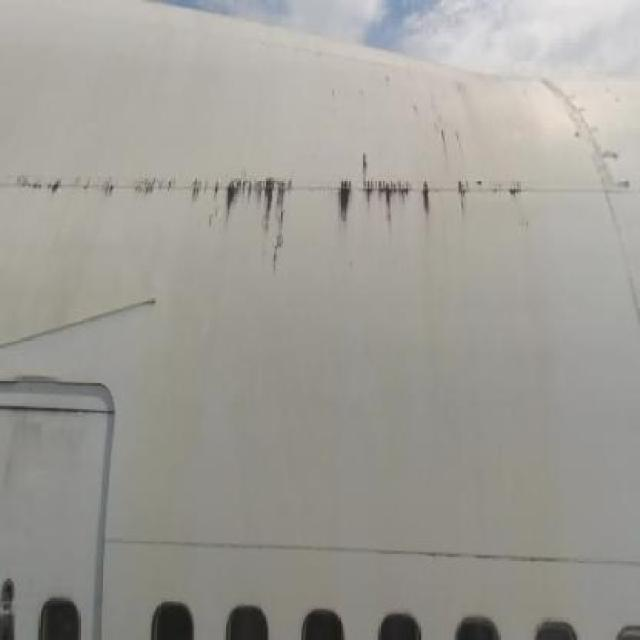Rust: (18, 151, 539, 277), (384, 66, 496, 176)
Scartch: (547, 79, 633, 196), (8, 418, 102, 498)
